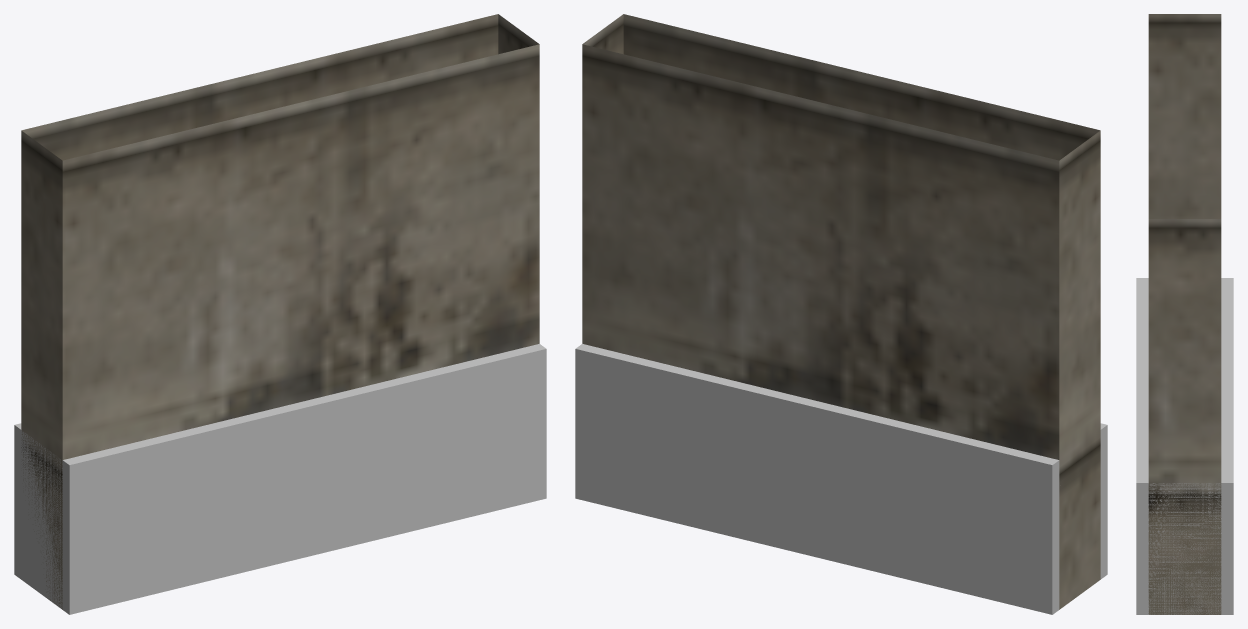
File: MO_WALL_S-B_03.fbx
3 views of the same model, side by side, from view 1: azimuth 30°, elevation 25°; view 2: azimuth 150°, elevation 25°; view 3: azimuth 270°, elevation 25° (orthographic). The views are drawn at different scales.
Parts seen in each view (by area): view 1: MO_WALL_S-B_03; view 2: MO_WALL_S-B_03; view 3: MO_WALL_S-B_03.
Boxes of the visible parts, box(x1,y1,x2,y2) form: MO_WALL_S-B_03: box(14, 14, 546, 614); MO_WALL_S-B_03: box(575, 14, 1107, 614); MO_WALL_S-B_03: box(1136, 14, 1233, 614).
Bounding box in the file's own units: 2 × 1.8 × 0.4.
